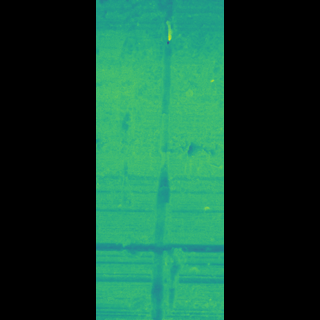Loch: (142, 0, 173, 320), (134, 0, 186, 156)
